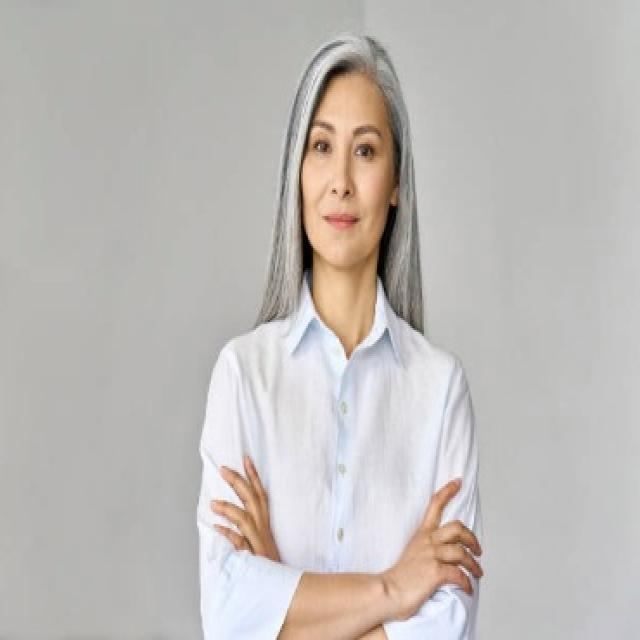adult: (203, 22, 497, 640)
